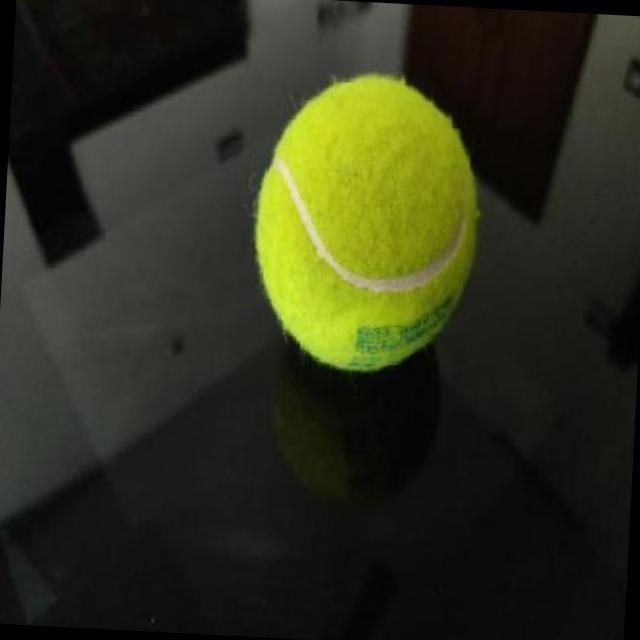-: (227, 60, 500, 393)
